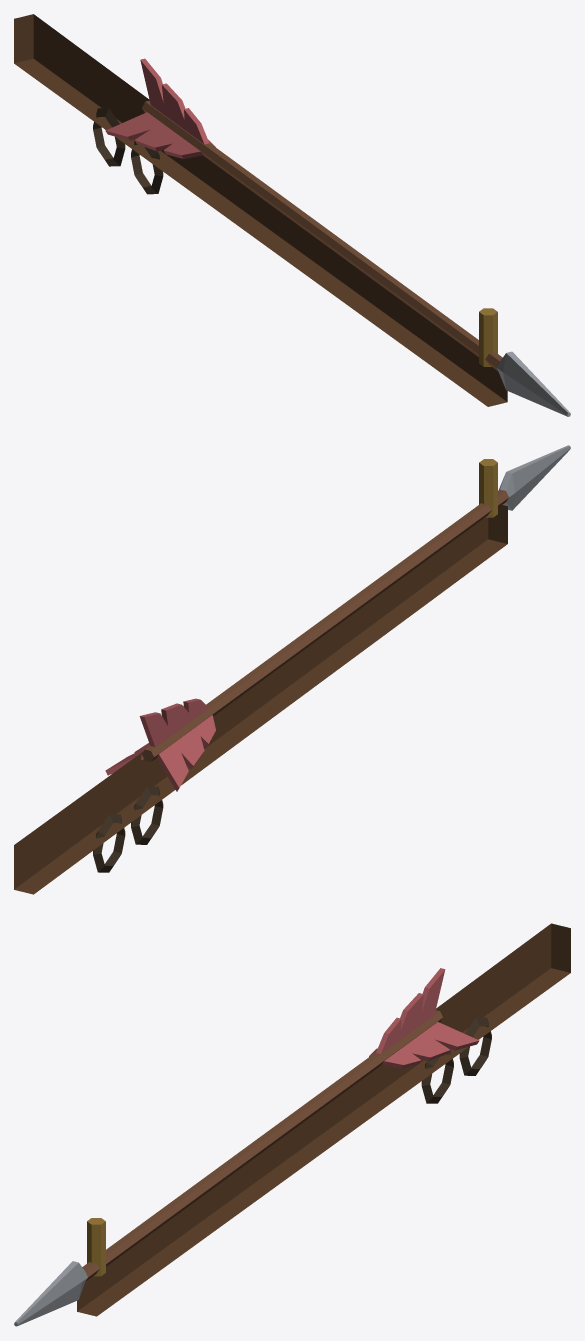
File: atlatl.glb
3 views of the same model, one above another, from view 1: azimuth 30°, elevation 25°; view 2: azimuth 150°, elevation 25°; view 3: azimuth 330°, elevation 25° (orthographic).
Parts seen in each view (by area): view 1: m; view 2: m; view 3: m.
Part boxes in pixels (left/top/right/bottom): m: left=14, top=14, right=570, bottom=416; m: left=14, top=445, right=570, bottom=894; m: left=14, top=923, right=570, bottom=1326.
Size of the model in its own units: 0.0428 by 0.073 by 0.5453.
